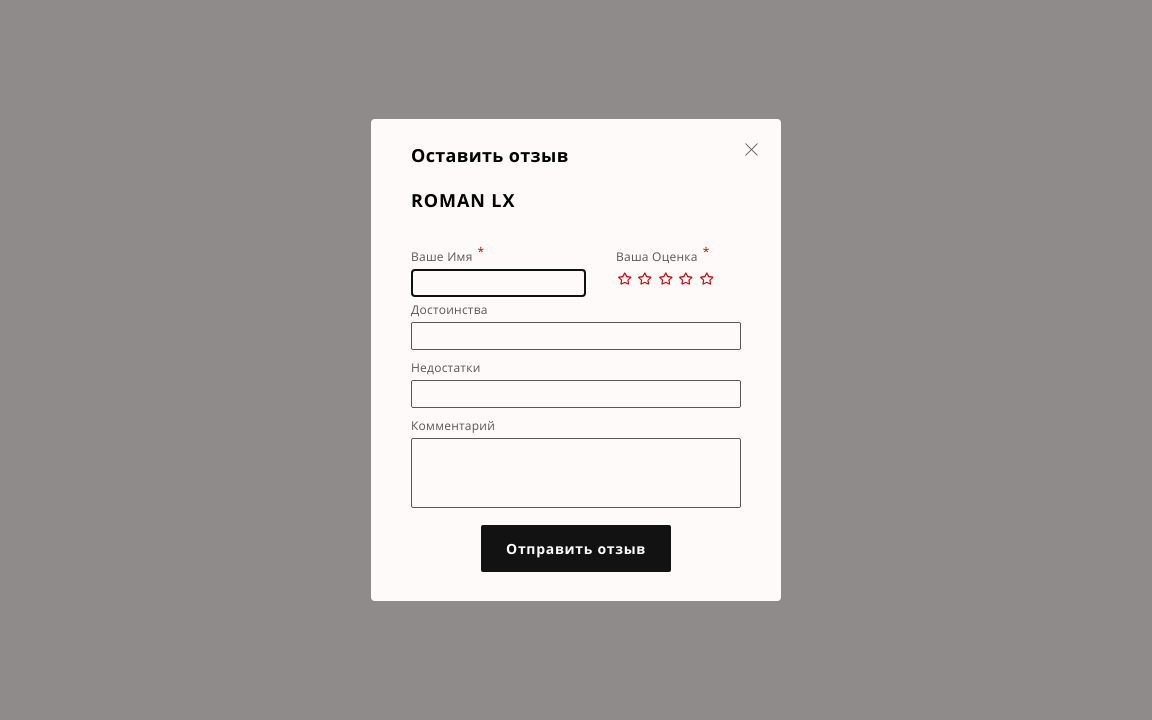
Test: Component: ModalReview › should show warnings when fields are empty on form submission
Click the button "Отправить отзыв" at (576, 548), box [481,525,671,572]
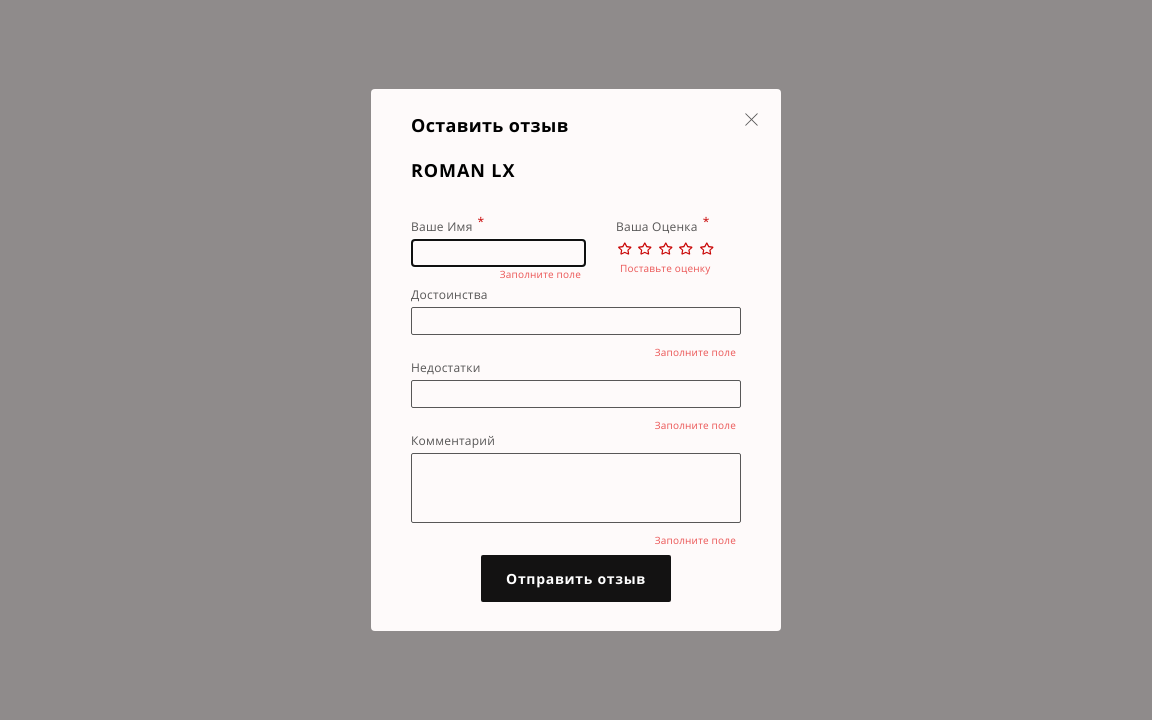
Result: the text "Заполните поле" is shown 4 times at [500,267,581,281]; [655,345,736,359]; [655,418,736,432]; [655,533,736,547]
Result: the text "Поставьте оценку" is shown at [620,261,720,276]
